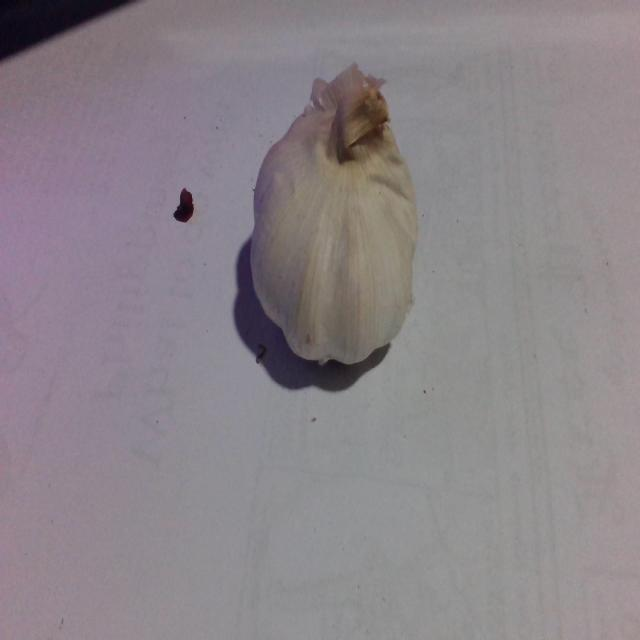garlic: (252, 90, 423, 369)
